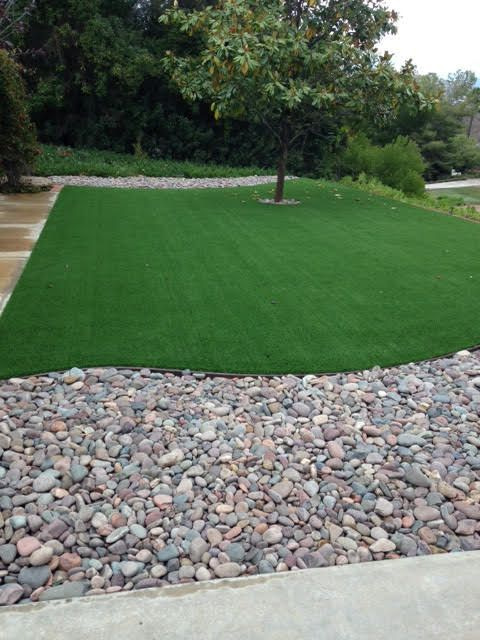grass: (4, 185, 478, 371)
rock: (0, 371, 480, 601)
tree: (270, 125, 292, 201)
